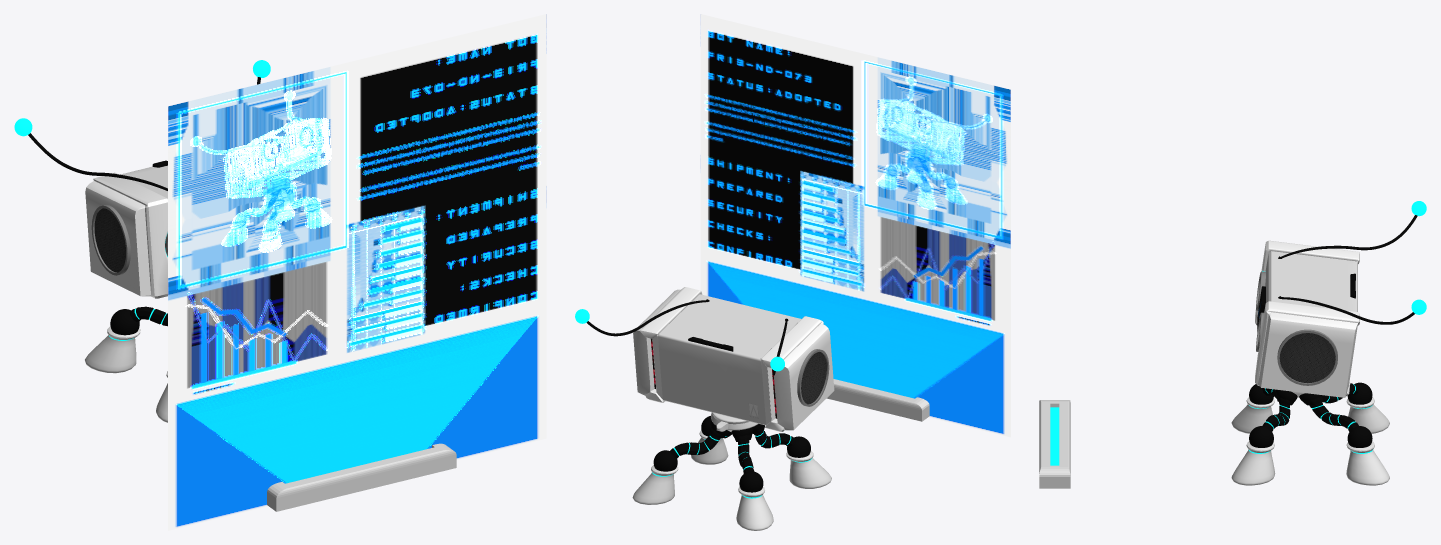
File: cuterobot.glb
The picture shows the model from 3 angles, left to right: view 1: azimuth 30°, elevation 25°; view 2: azimuth 150°, elevation 25°; view 3: azimuth 270°, elevation 25°; orthographic projection. The views are drawn at different scales.
Visible parts, largest first — view 1: chart holo_8, Sphere_3, Cube.001_9; view 2: chart holo_8, Sphere_3, Cube.001_9; view 3: Sphere_3, Cube.001_9.
Part boxes in pixels (x1,y1,x2,y2): chart holo_8: (168, 14, 546, 530); Sphere_3: (14, 60, 270, 422); Cube.001_9: (267, 443, 456, 511); chart holo_8: (700, 14, 1010, 437); Sphere_3: (575, 287, 834, 530); Cube.001_9: (827, 379, 929, 421); Sphere_3: (1231, 201, 1426, 485); Cube.001_9: (1039, 400, 1070, 488).
Size of the model in its own units: 0.3266 by 0.35 by 0.3412.
13 materials, 6 textured.
